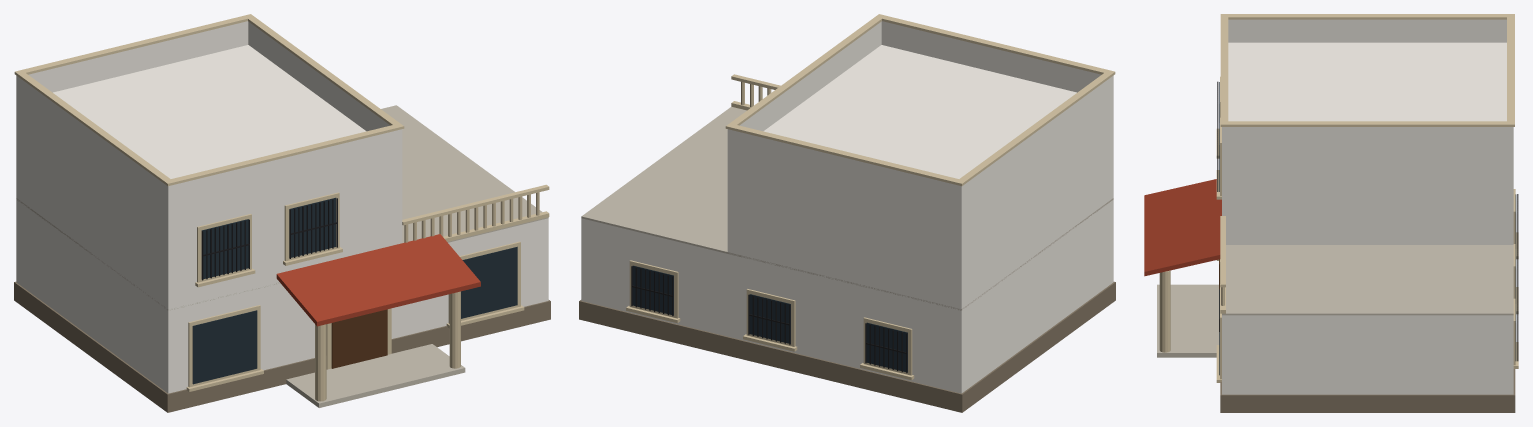
Rendered from villa.glb.
3 views of the same model, side by side, from view 1: azimuth 30°, elevation 25°; view 2: azimuth 150°, elevation 25°; view 3: azimuth 270°, elevation 25° (orthographic). The views are drawn at different scales.
Parts seen in each view (by area): view 1: villa; view 2: villa; view 3: villa.
Boxes of the visible parts, x1,y1,x2,y2 form: villa: (14,14,550,412); villa: (579,14,1115,412); villa: (1144,14,1518,412).
Size of the model in its own units: 13.1 by 7.48 by 11.56.
